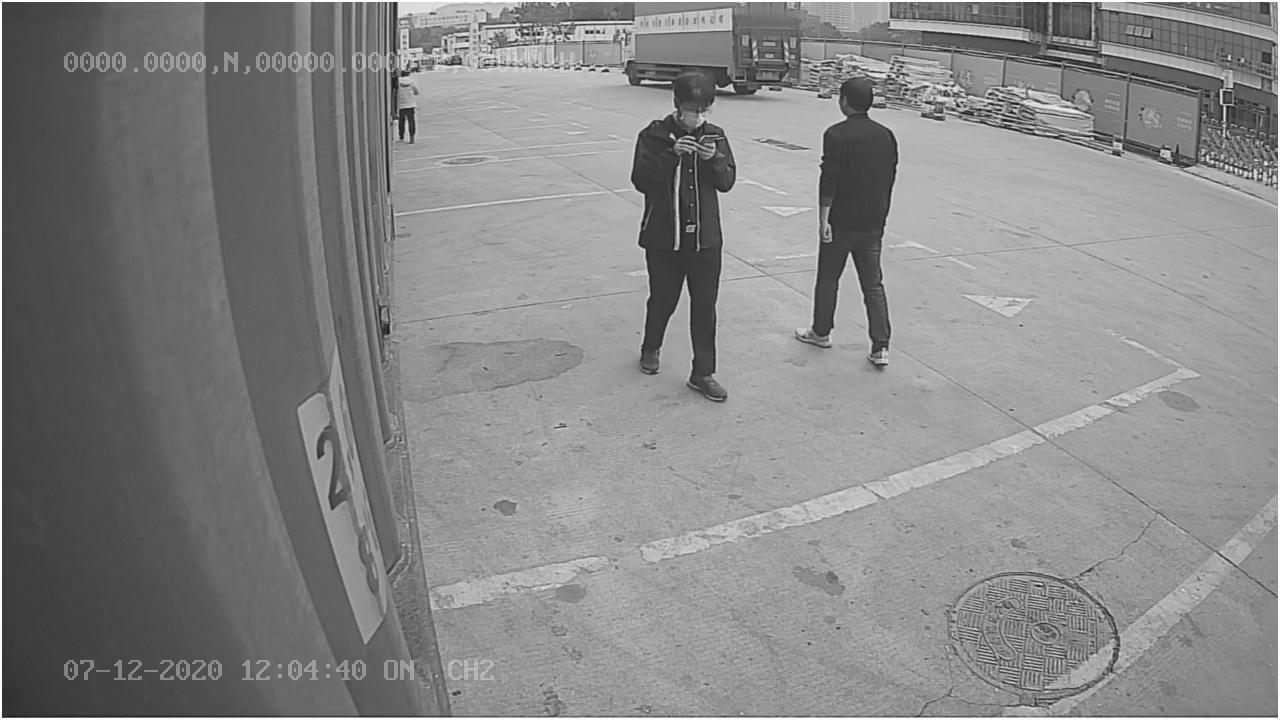person: (796, 75, 901, 368)
